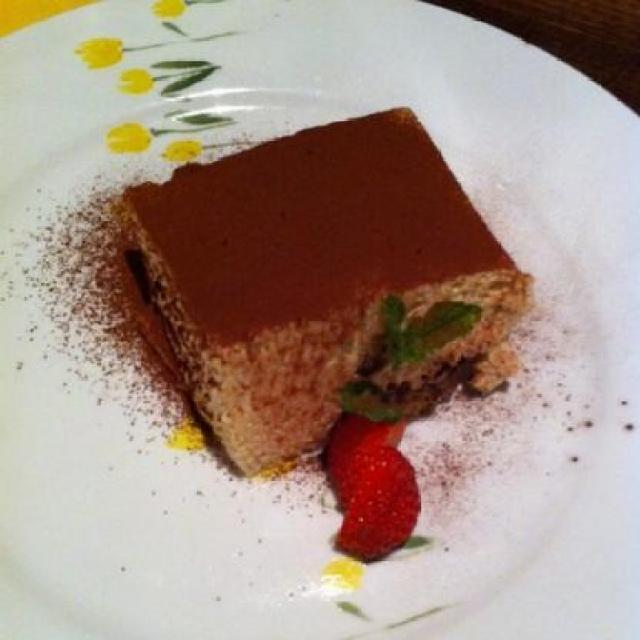Tiramisu: (87, 103, 507, 426)
